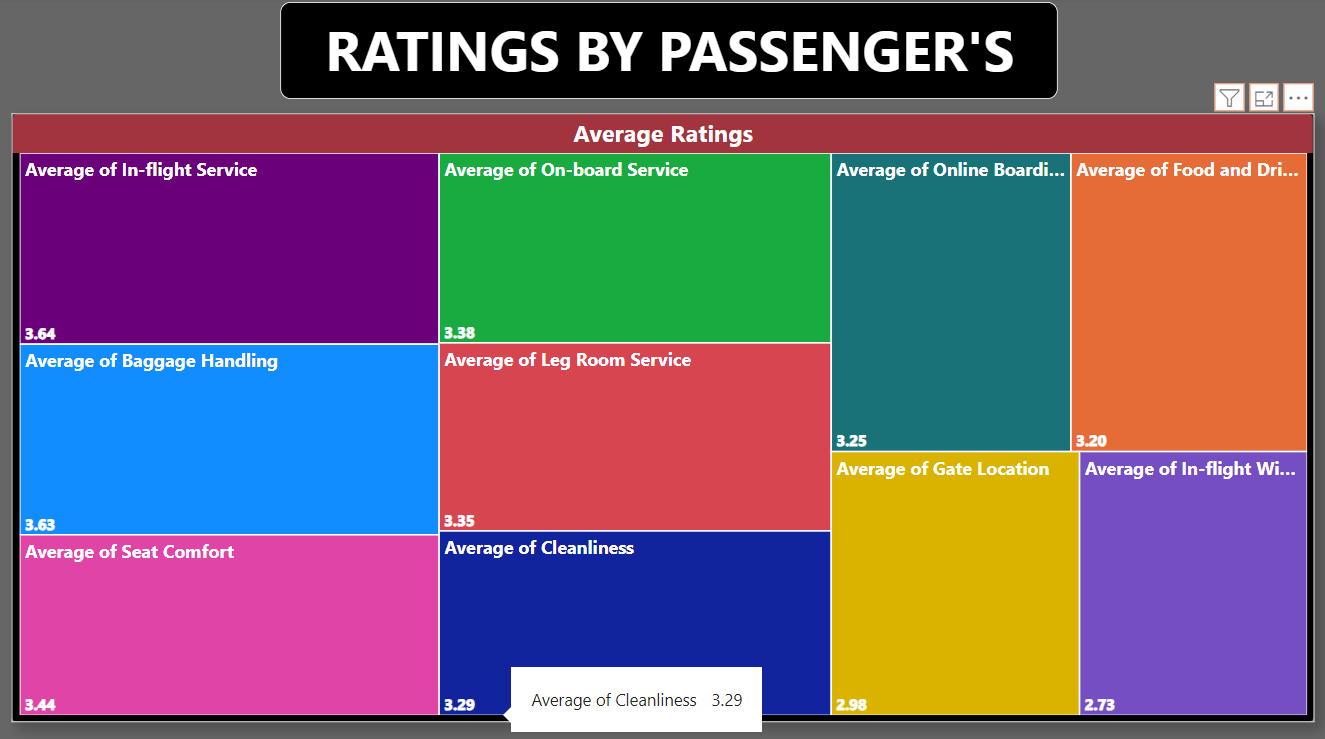

The dashboard page shown, as its layout file describes it:
{"tool":"powerbi","page":{"name":"Ratings","canvas":[1280,720],"ordinal":1},"visuals":[{"type":"treemap","title":"Average Ratings","fields":{"Values":["Avg(airline_passenger_satisfaction.Baggage Handling)","Avg(airline_passenger_satisfaction.Cleanliness)","Avg(airline_passenger_satisfaction.Food and Drink)","Avg(airline_passenger_satisfaction.In-flight Service)","Avg(airline_passenger_satisfaction.Seat Comfort)","Avg(airline_passenger_satisfaction.In-flight Wifi Service)","Avg(airline_passenger_satisfaction.Gate Location)","Avg(airline_passenger_satisfaction.Leg Room Service)","Avg(airline_passenger_satisfaction.Online Boarding)","Avg(airline_passenger_satisfaction.On-board Service)"]},"box":[12.5,112.2,1256.6,587.1],"z":0},{"type":"textbox","box":[271.8,5,750.5,93.5],"z":1000}]}

Visuals, with their boxes on the page's 1280x720 design canvas (x1, y1, x2, y2). These are canvas units, not pixel positions in the 1325x739 screenshot, which may show the page scaled, cropped or inside an application window:
"Average Ratings" treemap: 12 112 1269 699
textbox: 272 5 1022 98
